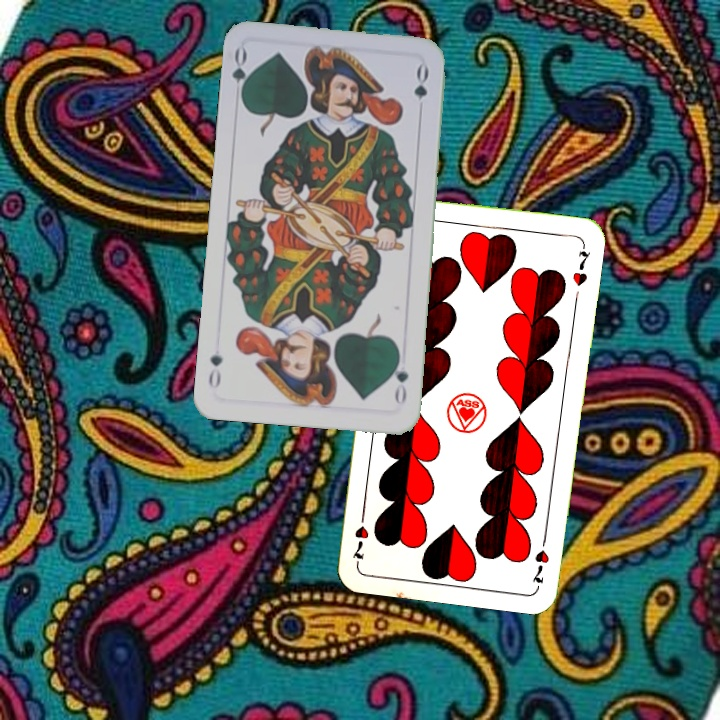GO: (228, 45, 254, 105), (388, 349, 411, 409)
H7: (528, 530, 552, 589)
